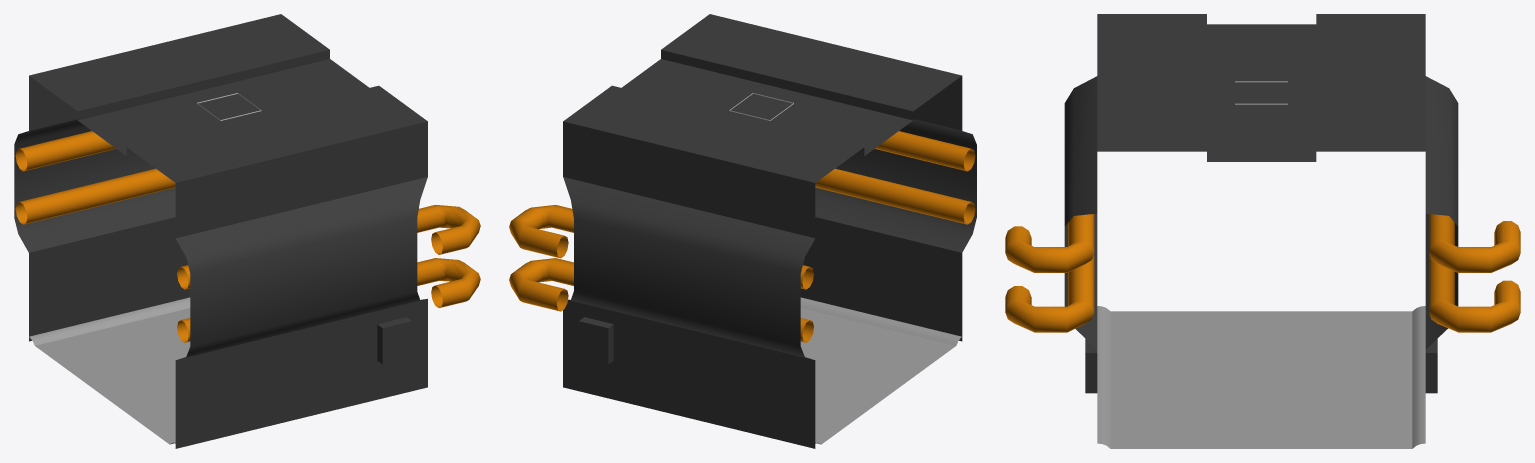
The model's file is hallwayToChamber.fbx.
3 renders of one model, left to right at view 1: azimuth 30°, elevation 25°; view 2: azimuth 150°, elevation 25°; view 3: azimuth 270°, elevation 25°, orthographic. The views are drawn at different scales.
Parts seen in each view (by area): view 1: int_entrance; view 2: int_entrance; view 3: int_entrance.
Part boxes in pixels (x1,y1,x2,y2): int_entrance: (14, 14, 480, 448); int_entrance: (509, 14, 976, 448); int_entrance: (1005, 14, 1520, 448).
Bounding box in the file's own units: 2.18 × 2 × 3.14.
